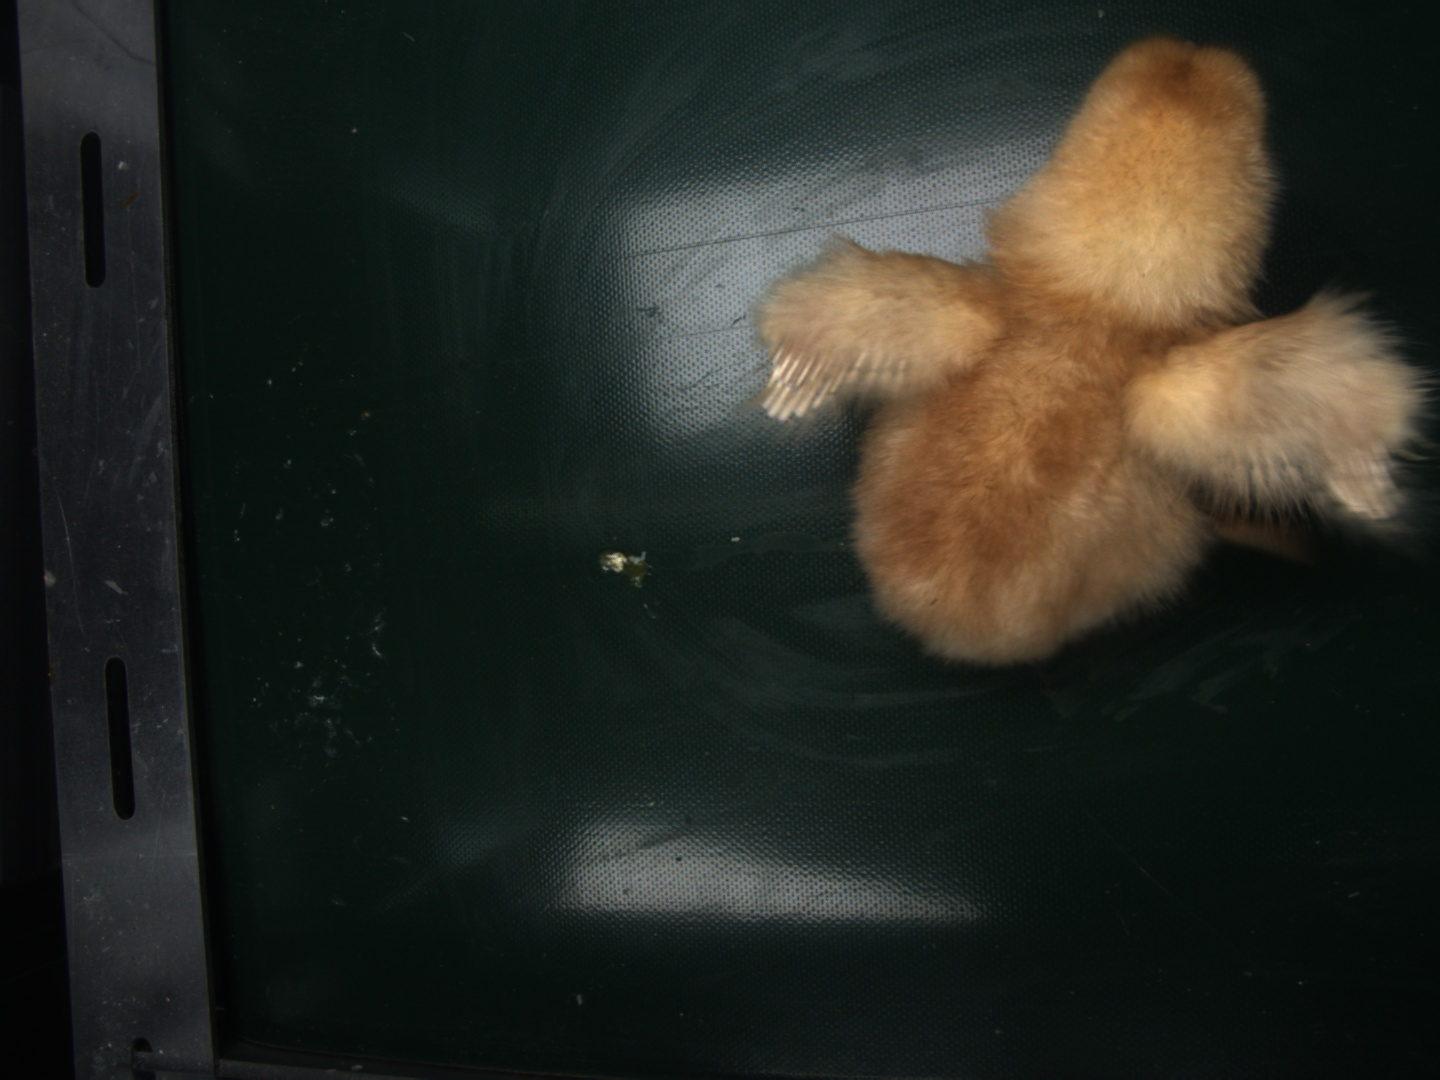female: (760, 338, 842, 419)
